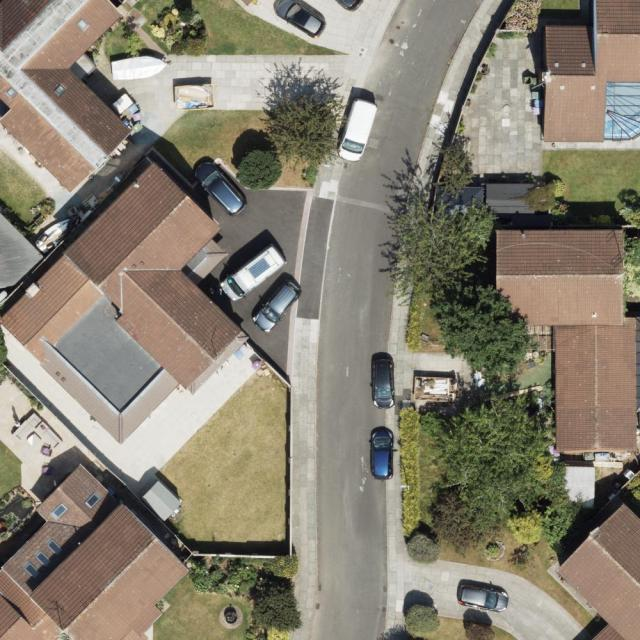roof: (0, 164, 250, 448), (0, 463, 190, 640), (492, 228, 638, 454), (0, 0, 132, 195), (540, 0, 640, 143), (557, 503, 640, 640)
skylight: (603, 82, 640, 142), (82, 490, 103, 511), (24, 561, 41, 582), (48, 81, 67, 99), (33, 552, 51, 570), (47, 538, 64, 557), (51, 504, 68, 521), (3, 85, 21, 100), (75, 19, 90, 33)
